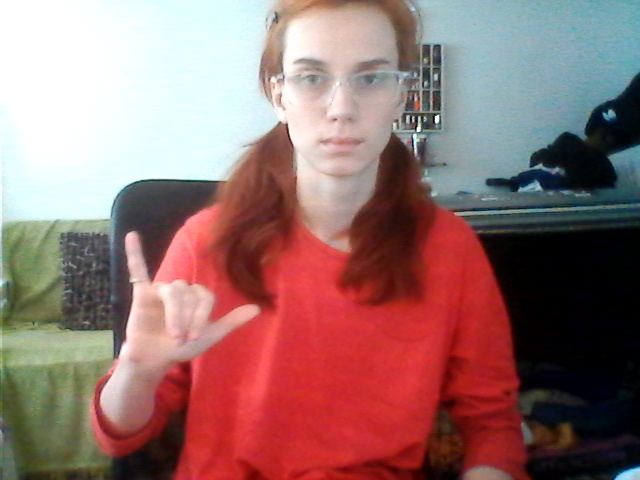kto: (100, 223, 276, 368)
